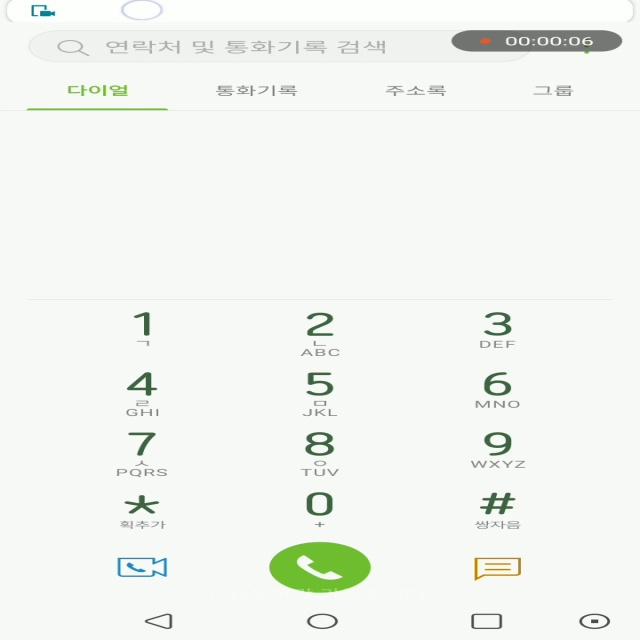Cursor: (120, 1, 164, 23)
